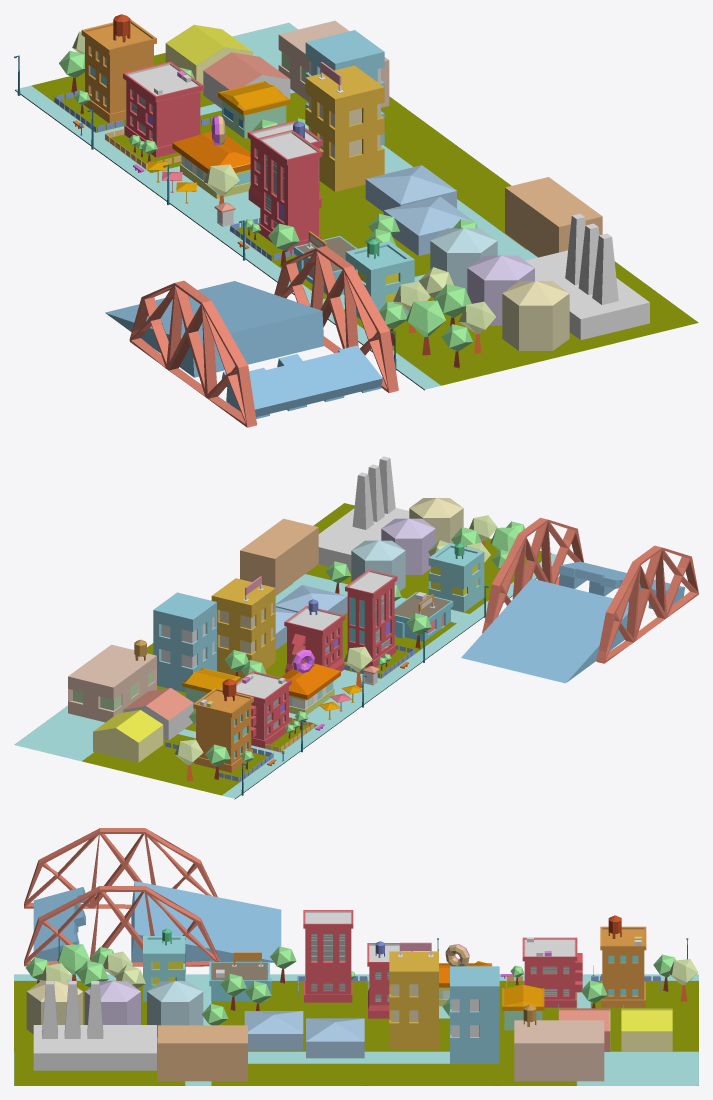
The model's file is city_built_3.glb.
3 views of the same model, one above another, from view 1: azimuth 30°, elevation 25°; view 2: azimuth 150°, elevation 25°; view 3: azimuth 270°, elevation 25° (orthographic). The views are drawn at different scales.
Parts seen in each view (by area): view 1: ground, bridge.018, bridge.016, second_plan building, bridge.001, bridge.014, building.003, building, factory building, building.001, Cylinder building.002, factory building.006 (+23 smaller); view 2: ground, bridge.016, bridge.018, second_plan building.001, third_plan building, second_plan building, bridge.001, factory building, building.003, building.001, building.005, building.002 (+17 smaller); view 3: ground, bridge.016, third_plan building, factory building, factory building.006, second_plan building.001, second_plan building, building.003, bridge.001, bridge.018, building, building.001 (+27 smaller).
Part boxes in pixels (<box>): ground: <box>15,22,698,390</box>; bridge.018: <box>129,280,256,427</box>; bridge.016: <box>105,281,324,377</box>; second_plan building: <box>305,65,384,191</box>; bridge.001: <box>274,246,398,392</box>; bridge.014: <box>221,345,382,418</box>; building.003: <box>257,130,322,252</box>; building: <box>123,61,203,157</box>; factory building: <box>505,177,602,257</box>; building.001: <box>81,19,156,123</box>; Cylinder building.002: <box>502,281,569,350</box>; factory building.006: <box>525,250,649,339</box>; ground: <box>14,503,556,799</box>; bridge.016: <box>461,578,628,683</box>; bridge.018: <box>596,545,698,663</box>; second_plan building.001: <box>153,592,216,692</box>; third_plan building: <box>68,644,156,722</box>; second_plan building: <box>211,578,275,677</box>; bridge.001: <box>482,517,583,633</box>; factory building: <box>240,518,318,594</box>; building.003: <box>345,569,397,667</box>; building.001: <box>193,688,253,772</box>; building.005: <box>428,543,484,612</box>; building.002: <box>284,606,345,673</box>; ground: <box>14,974,698,1085</box>; bridge.016: <box>131,881,281,962</box>; third_plan building: <box>514,1020,604,1081</box>; factory building: <box>157,1025,247,1081</box>; factory building.006: <box>33,1025,156,1070</box>; second_plan building.001: <box>450,966,499,1063</box>; second_plan building: <box>389,951,438,1048</box>; building.003: <box>303,910,353,1002</box>; bridge.001: <box>24,886,220,966</box>; bridge.018: <box>24,828,217,908</box>; building: <box>522,937,582,1007</box>; building.001: <box>600,926,646,1007</box>.
Size of the model in its own units: 20.39 by 4.96 by 32.49.
41 materials, 21 textured.
